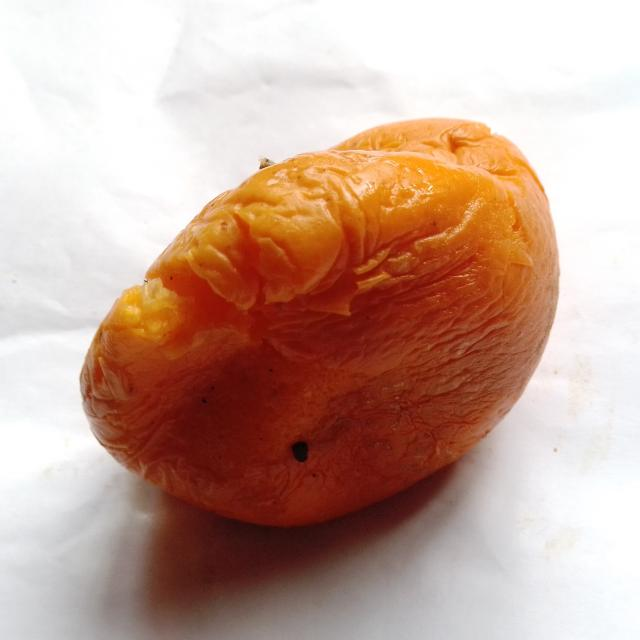orange: (82, 120, 558, 525)
